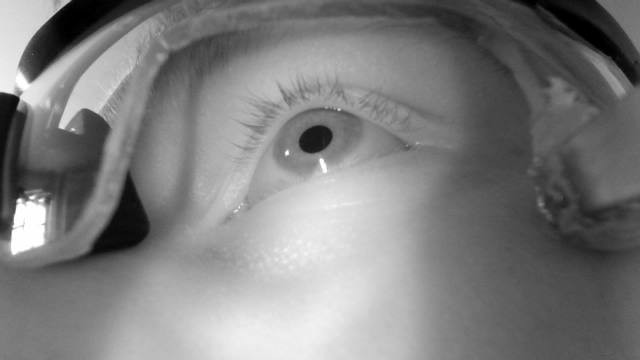pupil: (298, 124, 333, 154)
